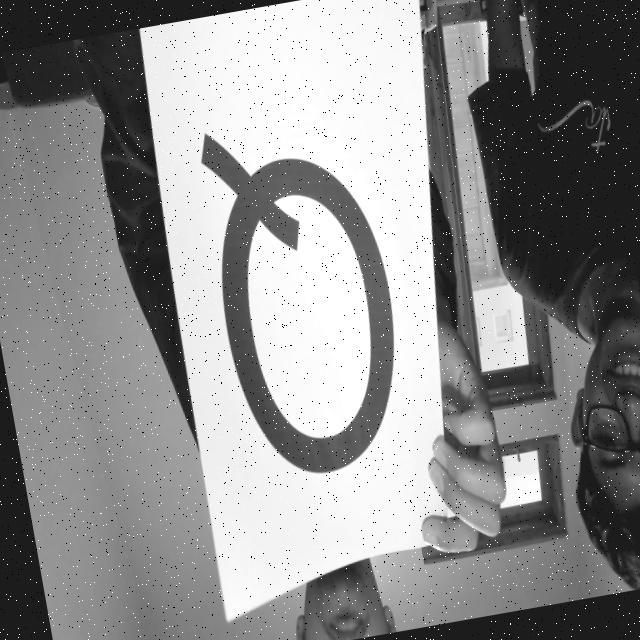q: (167, 54, 428, 497)
